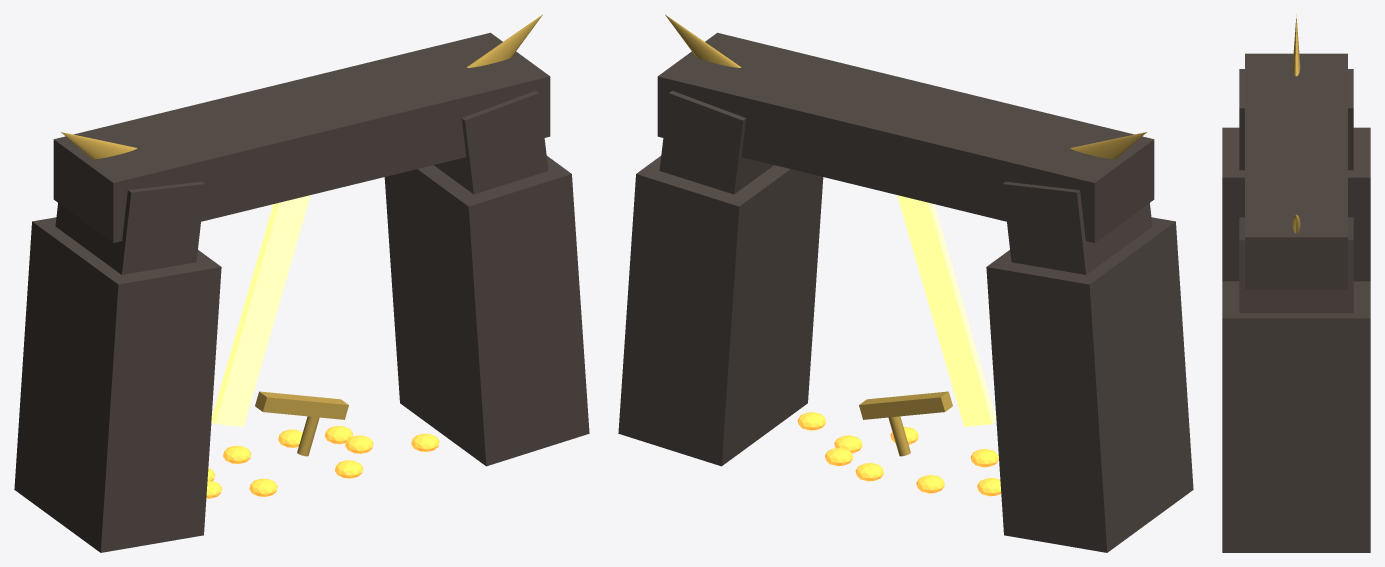
File: boundary.glb
The picture shows the model from 3 angles, left to right: view 1: azimuth 30°, elevation 25°; view 2: azimuth 150°, elevation 25°; view 3: azimuth 270°, elevation 25°; orthographic projection. The views are drawn at different scales.
Parts seen in each view (by area): view 1: Cube, Cube.002, Cube.004, Cube.001, Cube.005, Cube.003, Cube.006, Cone.001, Cone; view 2: Cube, Cube.002, Cube.004, Cube.001, Cube.005, Cube.003, Cube.006, Cone.001, Cone; view 3: Cube.002, Cube.004, Cube, Cube.003, Cube.001, Cone.
Part boxes in pixels (x1,y1,x2,y2): Cube: (14,217,221,552); Cube.002: (384,156,589,466); Cube.004: (53,32,550,242); Cube.001: (55,181,205,274); Cube.005: (211,195,310,426); Cube.003: (434,90,548,194); Cube.006: (255,391,348,419); Cone.001: (466,14,542,67); Cone: (61,132,137,159); Cube: (986,217,1193,552); Cube.002: (618,156,823,466); Cube.004: (657,32,1154,242); Cube.001: (1002,181,1152,274); Cube.005: (897,195,996,426); Cube.003: (659,90,773,194); Cube.006: (859,391,952,419); Cone.001: (665,14,741,67); Cone: (1070,132,1146,159); Cube.002: (1222,281,1370,552); Cube.004: (1245,53,1347,289); Cube: (1222,127,1370,281); Cube.003: (1239,217,1353,313); Cube.001: (1239,69,1353,170); Cone: (1292,14,1300,76).
Bounding box in the file's own units: 8.5 × 6.59 × 2.6.
